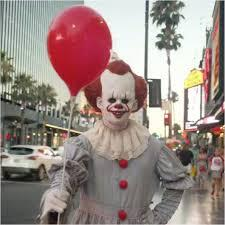red: (46, 5, 111, 99)
